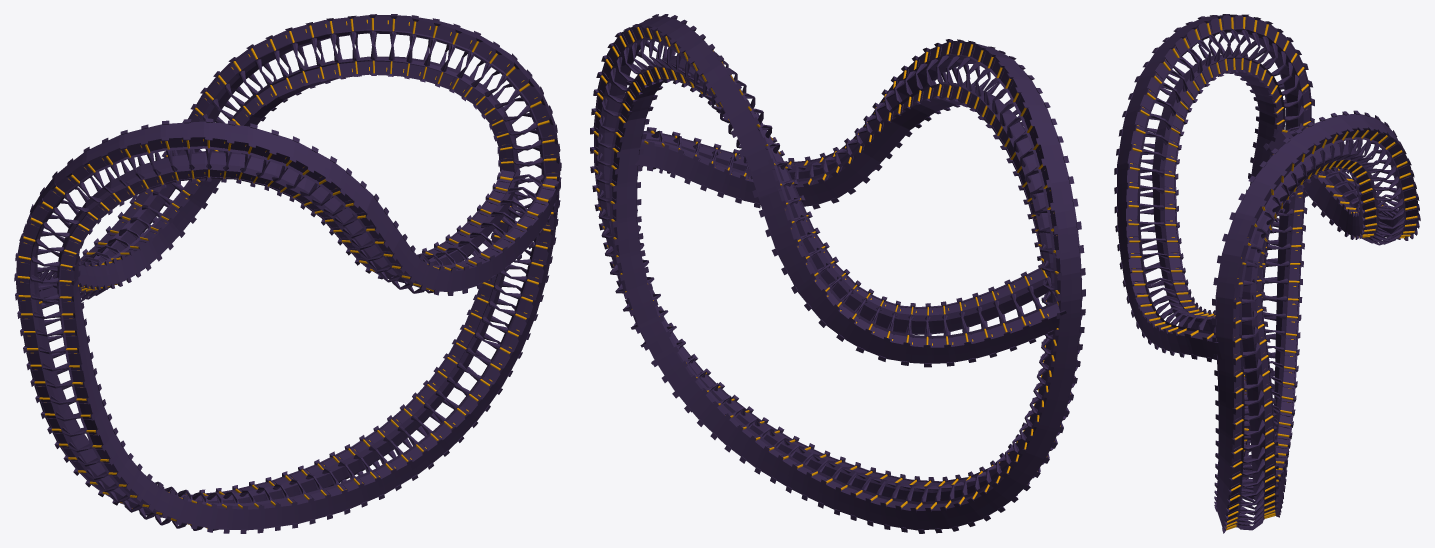
File: pretzel_4.fbx
The picture shows the model from 3 angles, left to right: view 1: azimuth 30°, elevation 25°; view 2: azimuth 150°, elevation 25°; view 3: azimuth 270°, elevation 25°; orthographic projection. The views are drawn at different scales.
Parts seen in each view (by area): view 1: p4rd; view 2: p4rd; view 3: p4rd.
Boxes of the visible parts, x1=… form: p4rd: x1=14, y1=14, x2=561, y2=533; p4rd: x1=590, y1=14, x2=1085, y2=533; p4rd: x1=1114, y1=14, x2=1420, y2=533.
Bounding box in the file's own units: 1393 × 1175 × 750.
